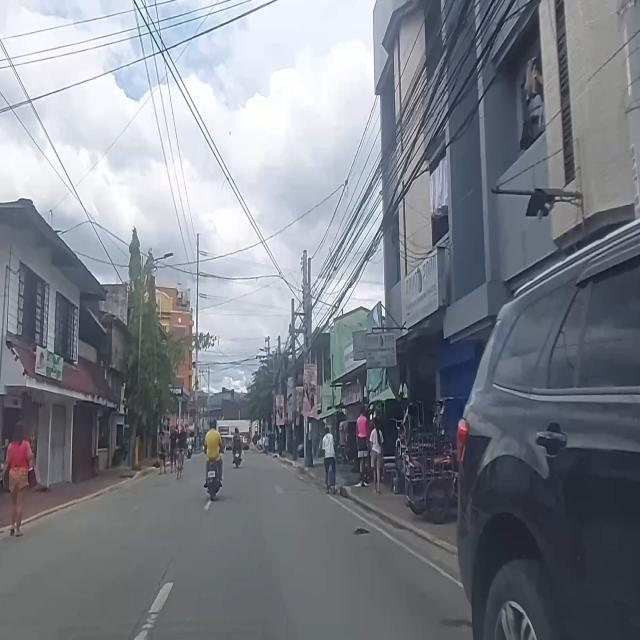bike: (176, 425, 186, 479)
car: (457, 220, 640, 640)
jeepney: (221, 434, 241, 452)
motorcycle: (204, 424, 222, 500), (232, 427, 242, 468), (186, 432, 194, 460)
